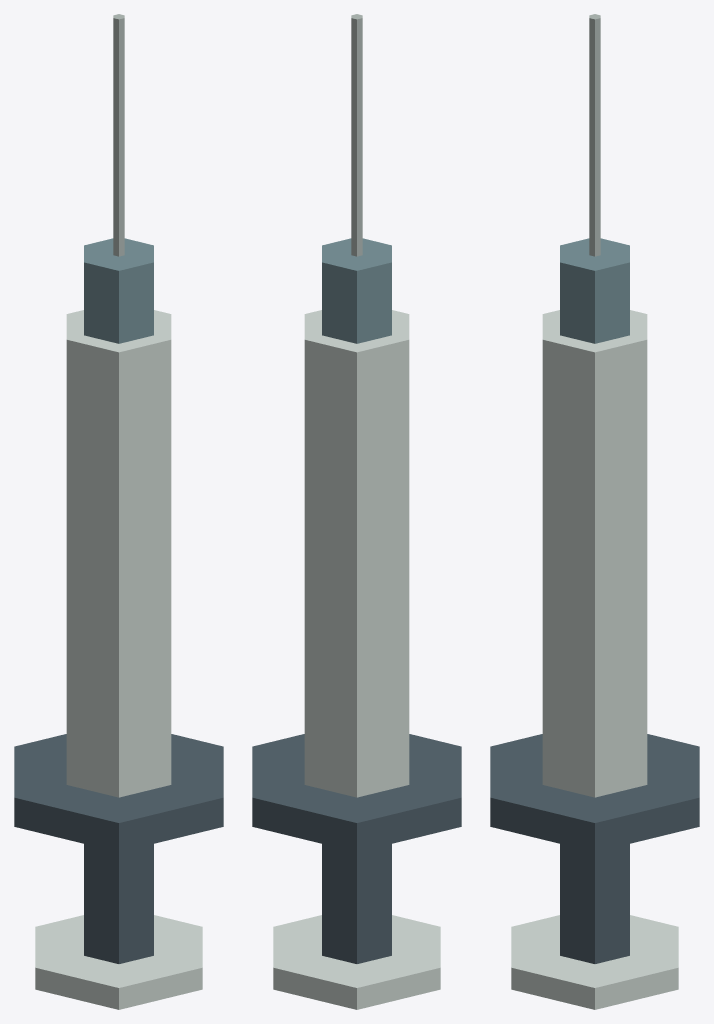
The model's file is injection_syringe.glb.
3 renders of one model, left to right at view 1: azimuth 30°, elevation 25°; view 2: azimuth 150°, elevation 25°; view 3: azimuth 270°, elevation 25°, orthographic.
Visible parts, largest first — view 1: barrel, finger_flange, thumb_pad, plunger, hub, needle; view 2: barrel, finger_flange, thumb_pad, plunger, hub, needle; view 3: barrel, finger_flange, thumb_pad, plunger, hub, needle.
Part boxes in pixels (x1,y1,x2,y2): barrel: [66, 310, 171, 797]; finger_flange: [14, 734, 223, 852]; thumb_pad: [35, 915, 202, 1009]; plunger: [84, 844, 153, 963]; hub: [84, 238, 153, 343]; needle: [113, 14, 124, 256]; barrel: [304, 310, 409, 797]; finger_flange: [252, 734, 461, 852]; thumb_pad: [273, 915, 440, 1009]; plunger: [322, 844, 391, 963]; hub: [322, 238, 391, 343]; needle: [351, 14, 362, 256]; barrel: [542, 310, 647, 797]; finger_flange: [490, 734, 699, 852]; thumb_pad: [511, 915, 678, 1009]; plunger: [560, 844, 629, 963]; hub: [560, 238, 629, 343]; needle: [589, 14, 600, 256].
Bounding box in the file's own units: 0.0375 × 0.1631 × 0.0325.
Materials: 1 (1 with a texture image).
